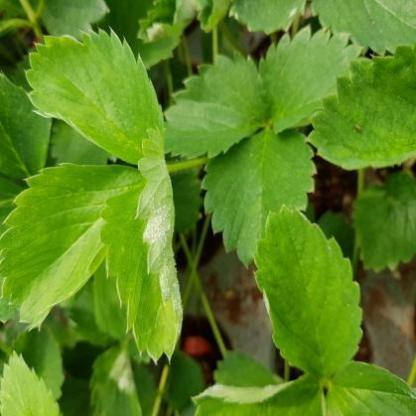Strawberry_Powdery_Mildew_Leaf: (99, 128, 184, 368), (23, 26, 166, 166), (253, 204, 364, 379), (190, 373, 324, 415), (89, 344, 143, 415), (226, 0, 308, 35)
